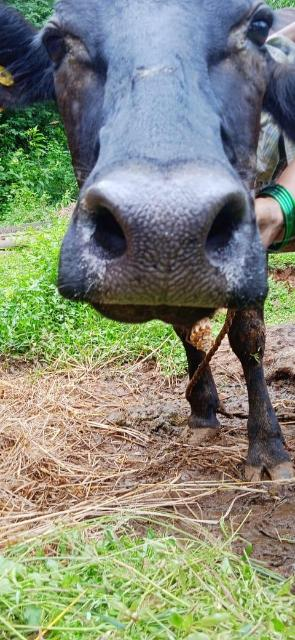Muzzle: (87, 175, 239, 305)
